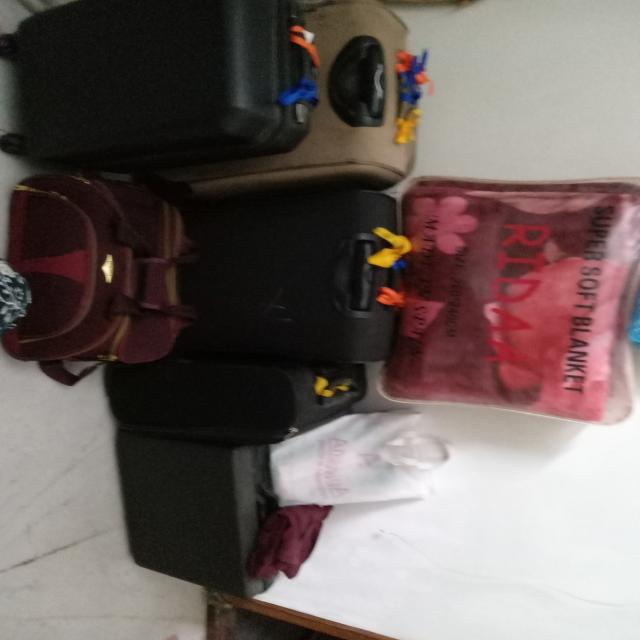suitcaserotation: (132, 1, 432, 200), (1, 1, 323, 175), (0, 168, 204, 388), (186, 178, 407, 370), (96, 353, 374, 444)
